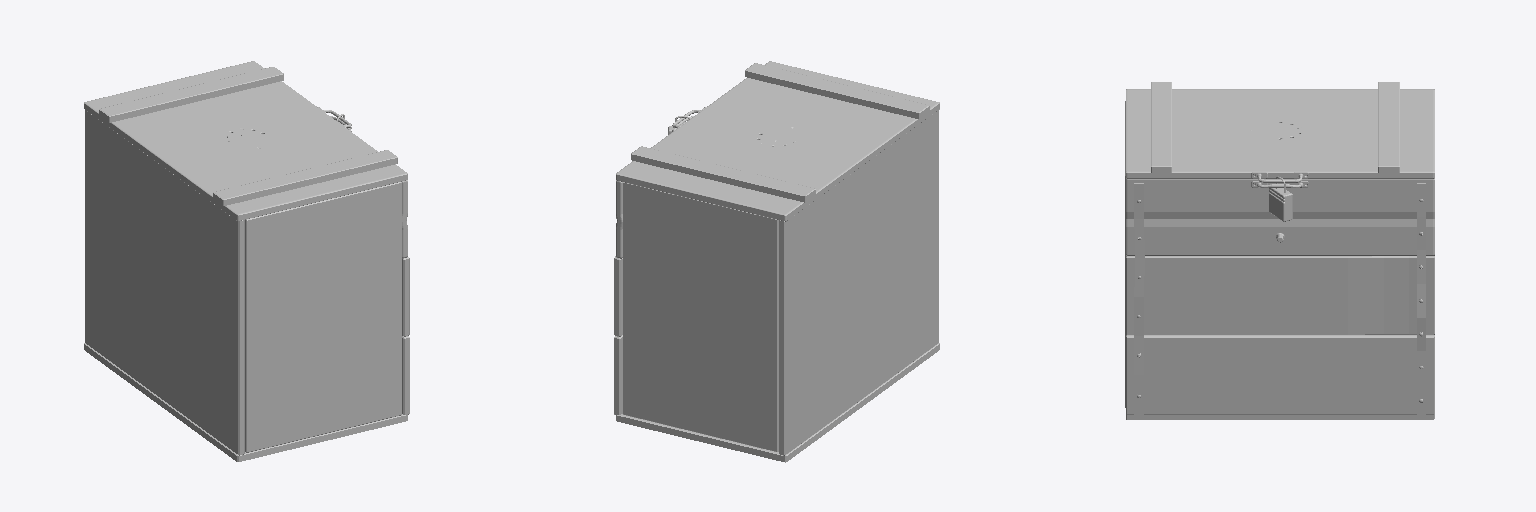
The picture shows the model from 3 angles: view 1: azimuth 30°, elevation 25°; view 2: azimuth 150°, elevation 25°; view 3: azimuth 270°, elevation 25°; orthographic projection.
Visible parts, largest first — view 1: padik_box; view 2: padik_box; view 3: padik_box.
Part boxes in pixels (x1,y1,x2,y2): padik_box: (84, 61, 409, 461); padik_box: (614, 61, 939, 462); padik_box: (1125, 82, 1434, 419).
Size of the model in its own units: 5.31 by 6.61 by 7.3.